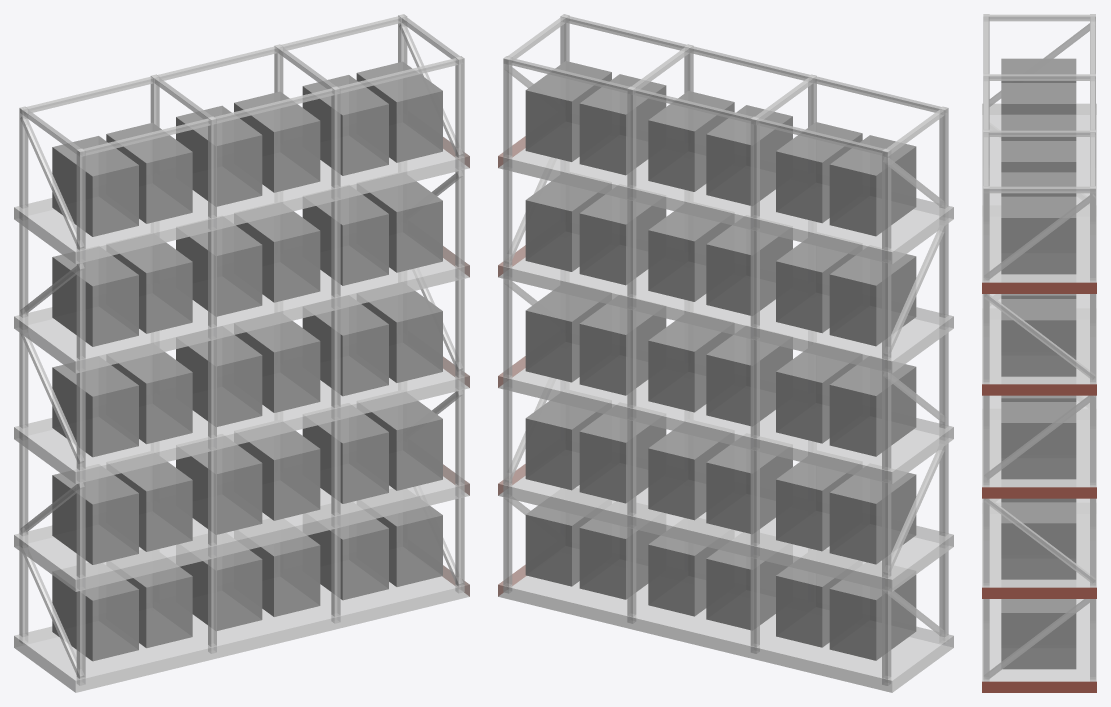
The model's file is shelves.glb.
3 views of the same model, side by side, from view 1: azimuth 30°, elevation 25°; view 2: azimuth 150°, elevation 25°; view 3: azimuth 270°, elevation 25° (orthographic). The views are drawn at different scales.
Visible parts, largest first — view 1: 立方体.062, 立方体.068, 立方体.070, 立方体.069, 立方体.071, 立方体.092, 立方体.090, 立方体.080, 立方体.083, 立方体.073, 立方体.088, 立方体.078 (+19 smaller); view 2: 立方体.062, 立方体.068, 立方体.069, 立方体.071, 立方体.070, 立方体.092, 立方体.088, 立方体.090, 立方体.080, 立方体.078, 立方体.083, 立方体.085 (+19 smaller); view 3: 立方体.062, 立方体.087, 立方体.086, 立方体.076, 立方体.077, 立方体.063, 立方体.091, 立方体.089, 立方体.090, 立方体.088, 立方体.068, 立方体.078 (+3 smaller).
Boxes of the visible parts, box(x1,y1,x2,y2) form: 立方体.062: box(14, 14, 469, 692); 立方体.068: box(52, 136, 138, 236); 立方体.070: box(52, 356, 138, 457); 立方体.069: box(52, 246, 138, 346); 立方体.071: box(52, 464, 138, 564); 立方体.092: box(52, 563, 138, 661); 立方体.090: box(176, 105, 262, 206); 立方体.080: box(176, 326, 262, 426); 立方体.083: box(176, 216, 262, 316); 立方体.073: box(176, 434, 262, 534); 立方体.088: box(302, 75, 388, 175); 立方体.078: box(302, 295, 388, 396); 立方体.062: box(498, 14, 953, 692); 立方体.068: box(829, 135, 916, 236); 立方体.069: box(829, 245, 916, 346); 立方体.071: box(829, 464, 916, 564); 立方体.070: box(829, 356, 916, 456); 立方体.092: box(829, 562, 916, 660); 立方体.088: box(579, 74, 666, 175); 立方体.090: box(706, 105, 792, 205); 立方体.080: box(706, 326, 792, 425); 立方体.078: box(579, 295, 666, 395); 立方体.083: box(706, 215, 792, 315); 立方体.085: box(579, 184, 666, 285); 立方体.062: box(982, 14, 1096, 692); 立方体.087: box(1001, 196, 1076, 274); 立方体.086: box(1001, 299, 1076, 376); 立方体.076: box(1001, 502, 1076, 579); 立方体.077: box(1001, 402, 1076, 479); 立方体.063: box(1001, 599, 1076, 669); 立方体.091: box(1001, 83, 1076, 114); 立方体.089: box(1001, 141, 1076, 172); 立方体.090: box(1001, 114, 1076, 140); 立方体.088: box(1001, 172, 1076, 196); 立方体.068: box(1001, 58, 1076, 82); 立方体.078: box(1001, 378, 1076, 401).
Bounding box in the file's own units: 5.72 × 7.48 × 1.55.
